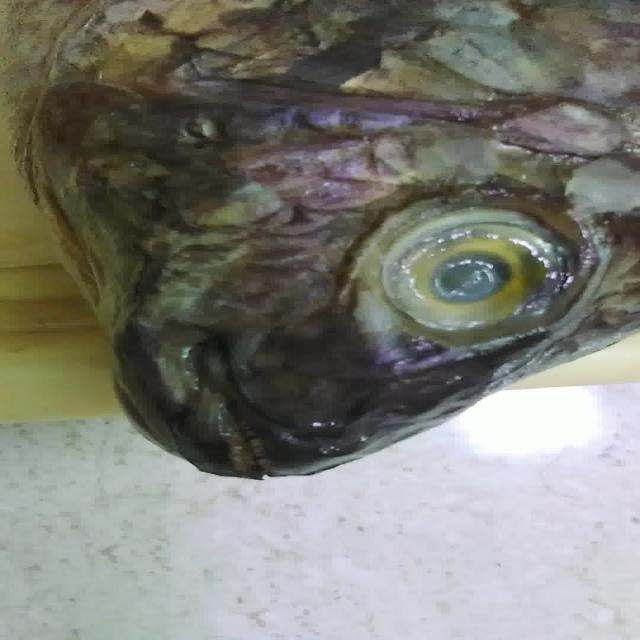Non-Fresh: (379, 196, 575, 346)
